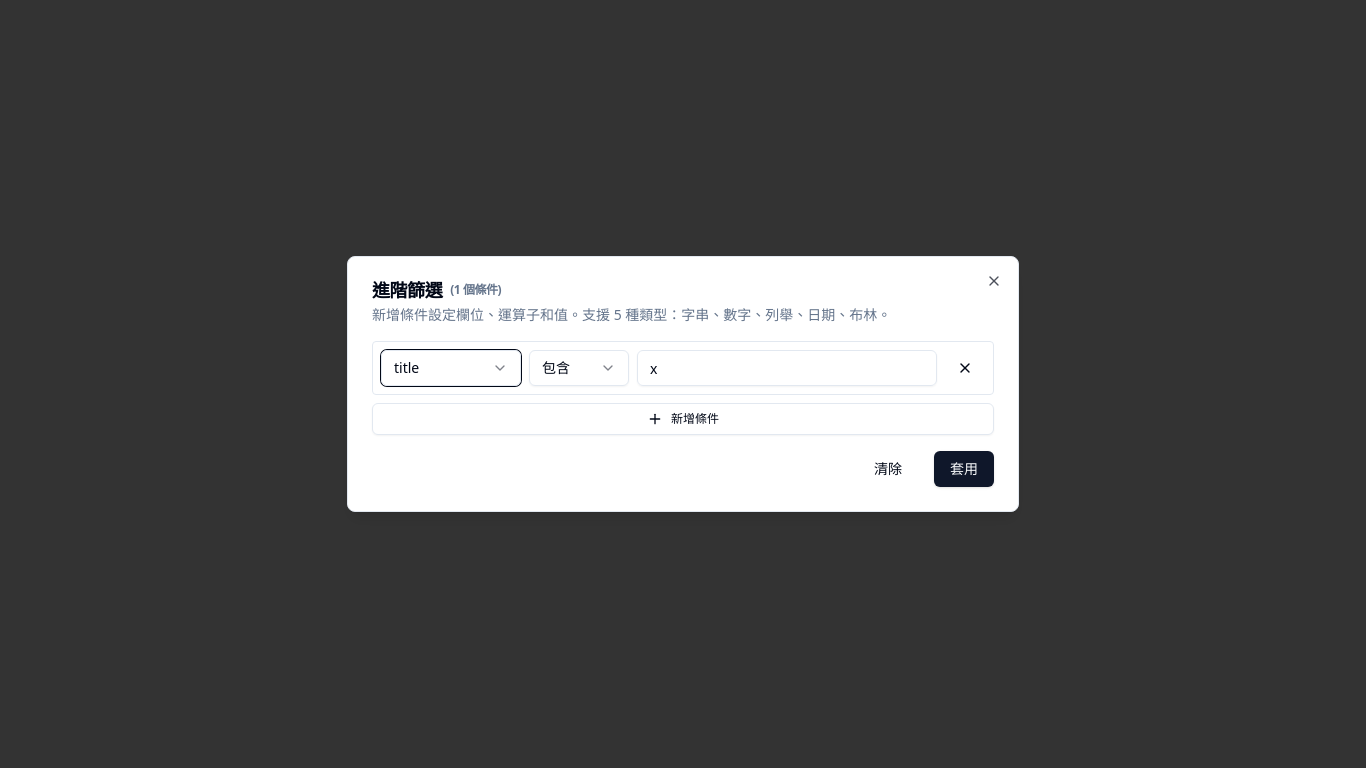
Test: Sprint D2 — AdvancedFilterDialog › 點 row 內的「移除」按鈕 → 該 row 消失
This screenshot has width=1366, height=768.
Check: the number of elements with test id "filter-row" is 1, box [372,341,994,395]
Click the button with test id "remove-filter-button". click: click(965, 368)
box: [945,352,985,384]
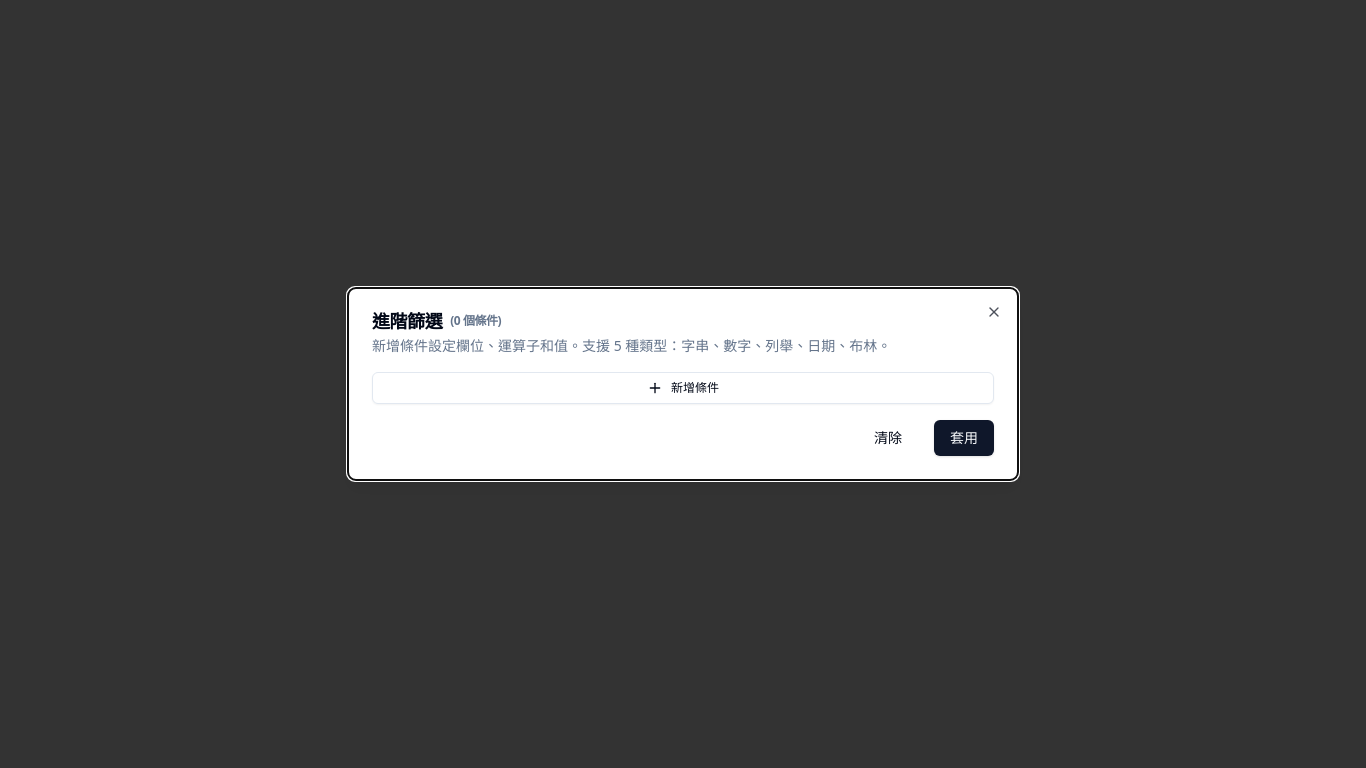
Check: no elements with test id "filter-row" are shown
